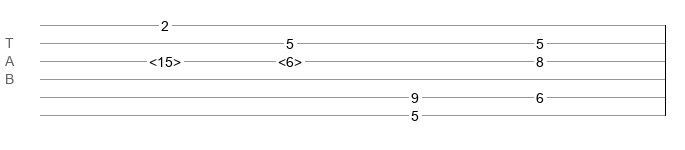2: (161, 18, 169, 28)
5: (286, 36, 294, 46), (411, 108, 419, 118), (536, 36, 544, 46)
6: (536, 90, 544, 100)
8: (536, 54, 544, 64)
9: (411, 90, 419, 100)
harmonic: (149, 54, 181, 64), (278, 54, 302, 64)
